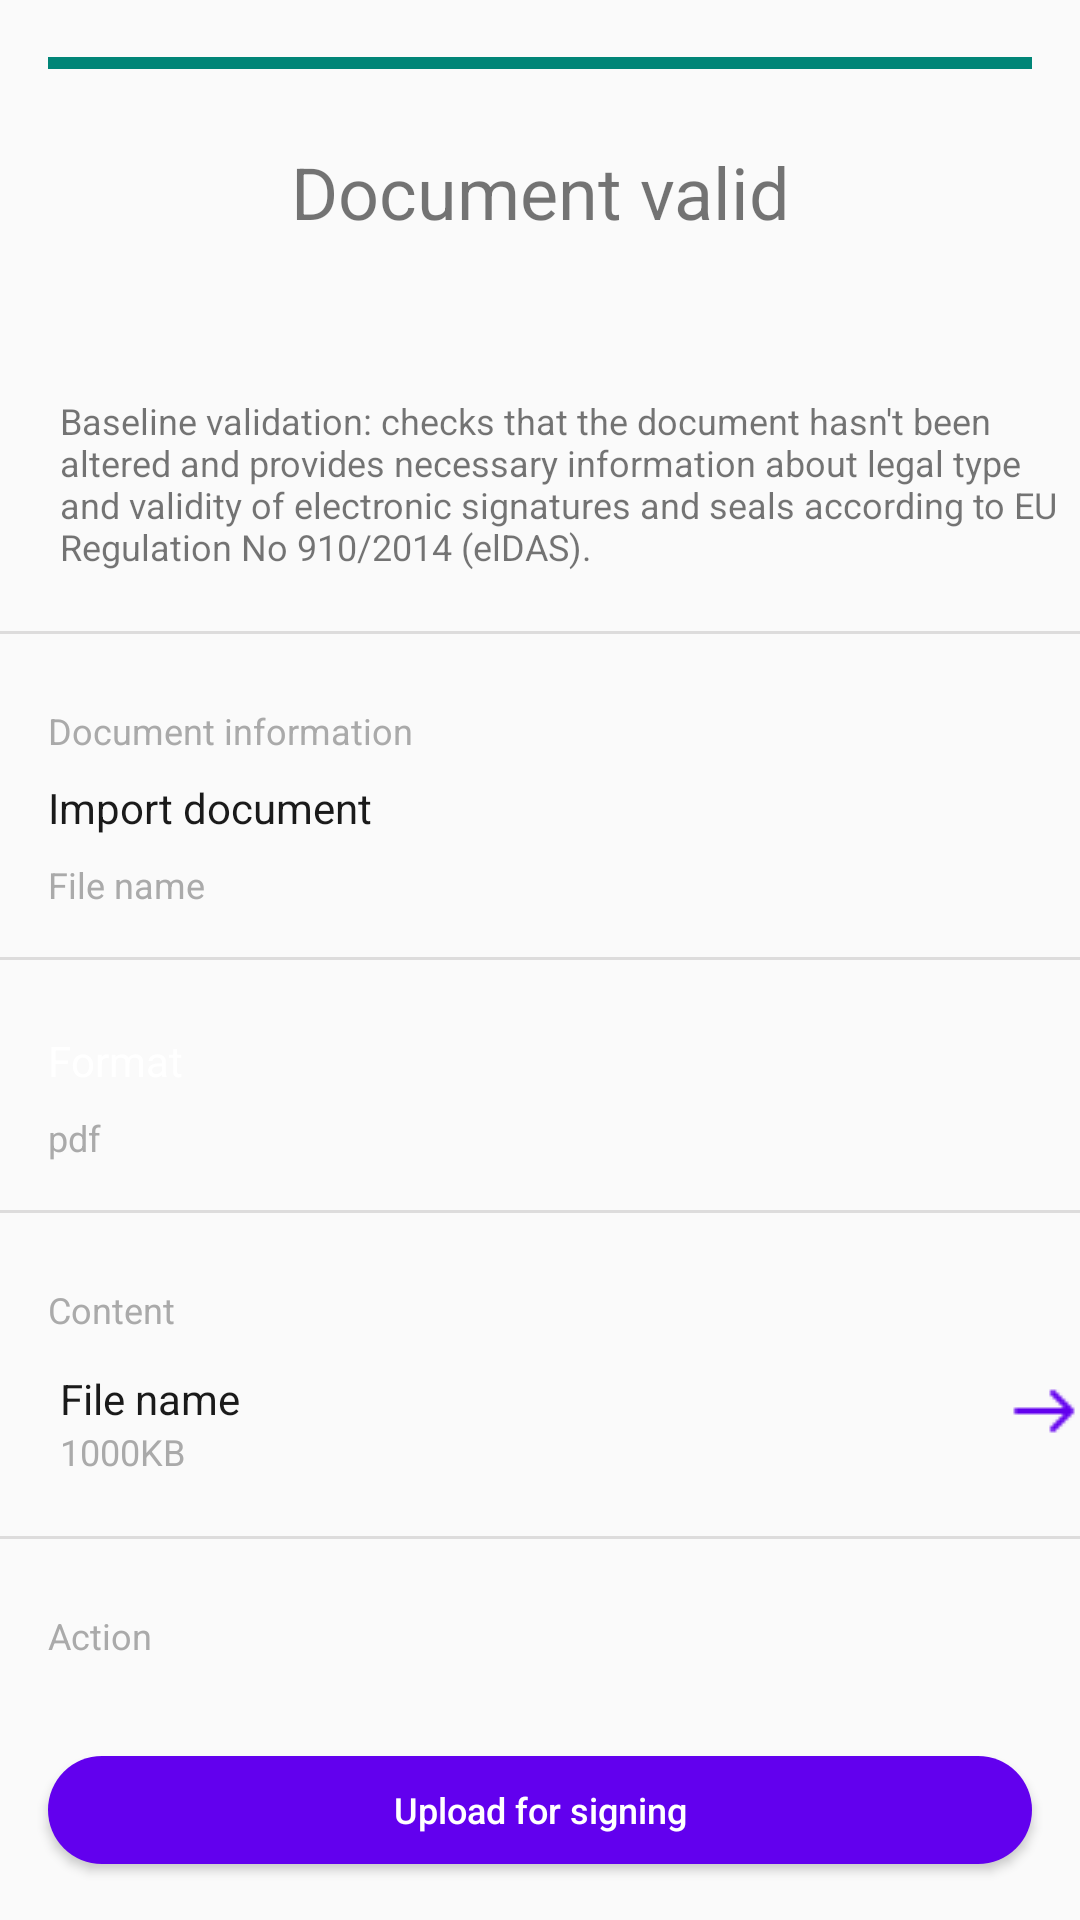

Named icons in this screenshot (1080×1920) and their bounding boxes, (x1, y1, x2, y2):
arrow right: (1013, 1389, 1075, 1433)
